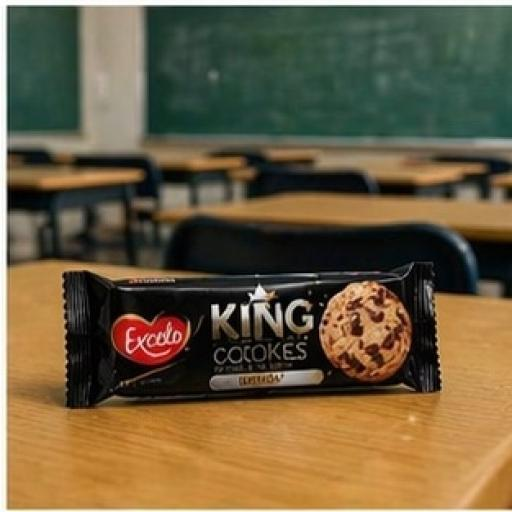king_cooking: (50, 224, 479, 436)
